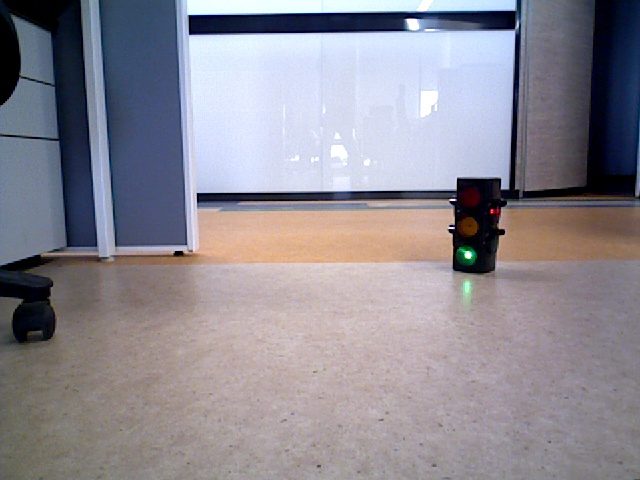green: (456, 190, 493, 269)
